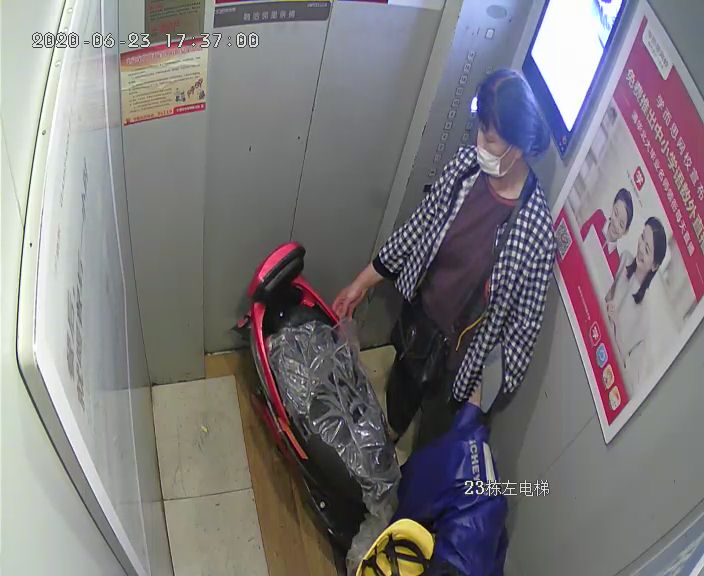Electric-bicycle: (246, 251, 502, 568)
